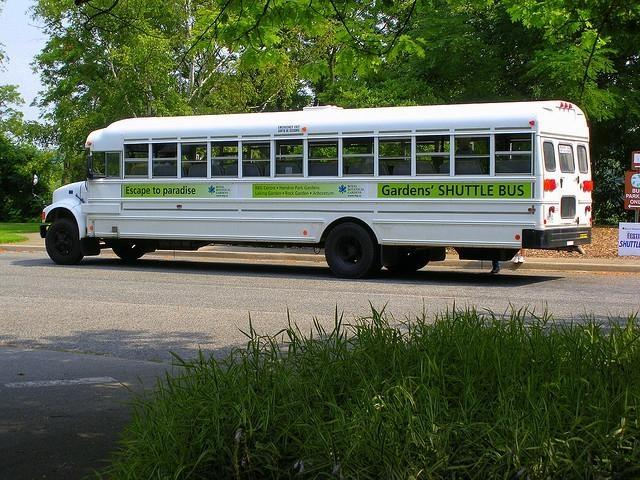bus: (40, 101, 593, 278)
